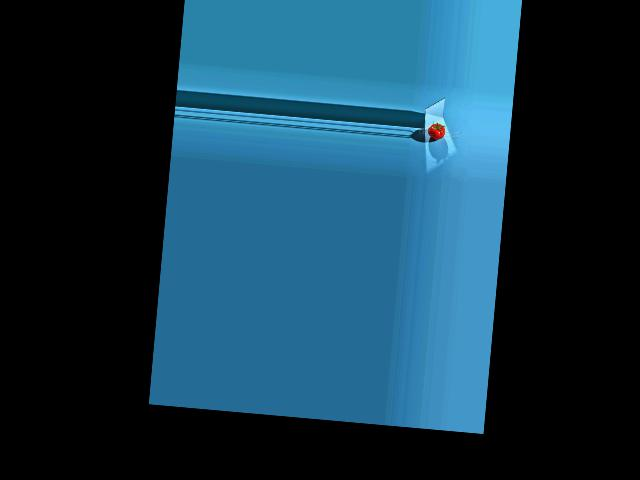tomato: (426, 122, 445, 140)
